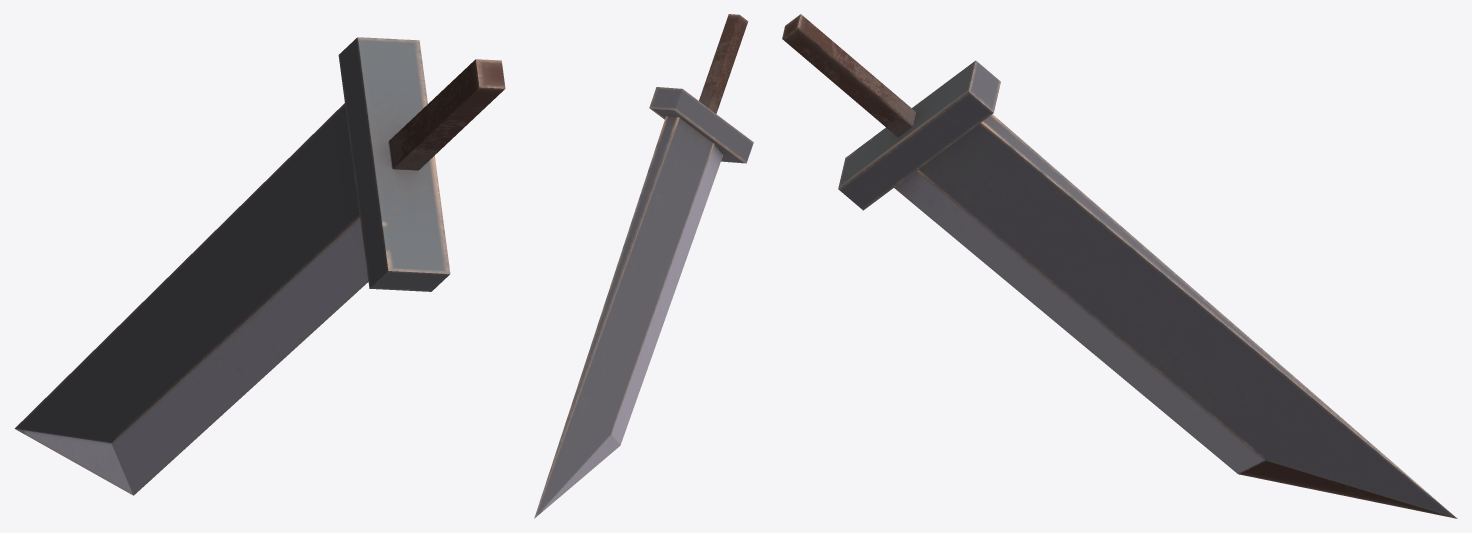
Rendered from cloud-sword-color.glb.
3 renders of one model, left to right at view 1: azimuth 30°, elevation 25°; view 2: azimuth 150°, elevation 25°; view 3: azimuth 270°, elevation 25°, orthographic. The views are drawn at different scales.
Visible parts, largest first — view 1: Handler.001; view 2: Handler.001; view 3: Handler.001.
Part boxes in pixels (x1,y1,x2,y2): Handler.001: [14, 37, 505, 495]; Handler.001: [534, 14, 753, 518]; Handler.001: [782, 14, 1457, 518].
Bounding box in the file's own units: 0.4952 × 2.81 × 3.34.
Materials: 1 (1 with a texture image).
